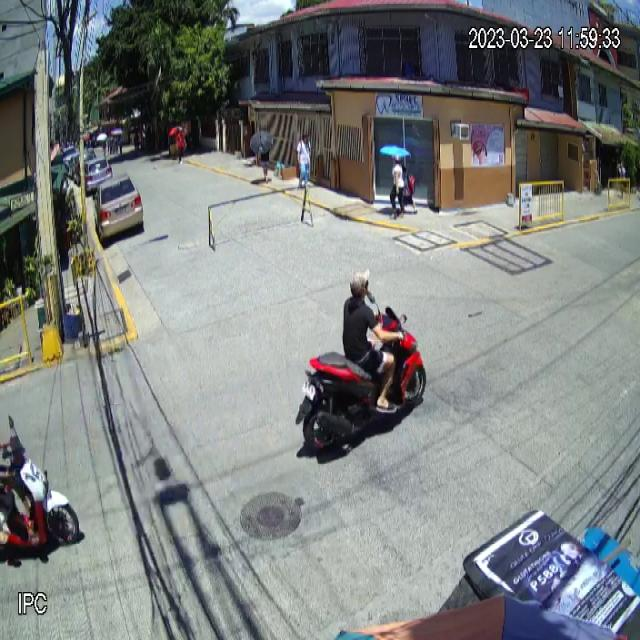Motorcycle: (295, 298, 428, 461)
